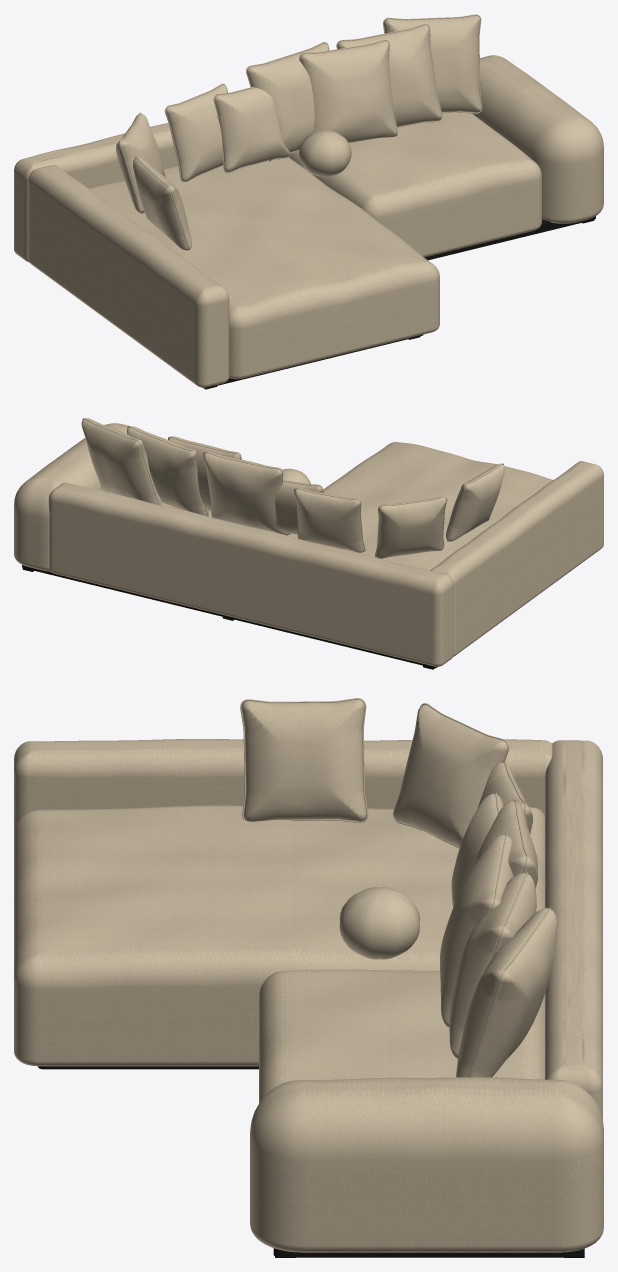
Rendered from corner.glb.
3 views of the same model, one above another, from view 1: azimuth 30°, elevation 25°; view 2: azimuth 150°, elevation 25°; view 3: azimuth 270°, elevation 25° (orthographic). The views are drawn at different scales.
Visible parts, largest first — view 1: fabric, pillows (×2), trim; view 2: fabric, pillows (×2), trim; view 3: fabric, pillows (×2), trim.
Boxes of the visible parts, x1,y1,x2,y2 form: fabric: (14, 55, 603, 387); pillows (×2): (116, 14, 482, 250); trim: (202, 216, 595, 388); fabric: (14, 423, 603, 666); pillows (×2): (81, 418, 505, 558); trim: (22, 565, 437, 668); fabric: (14, 739, 603, 1252); pillows (×2): (240, 698, 557, 1077); trim: (37, 1066, 583, 1257).
Size of the model in its own units: 3 by 0.9726 by 2.
Materials: 3 (3 with a texture image).
